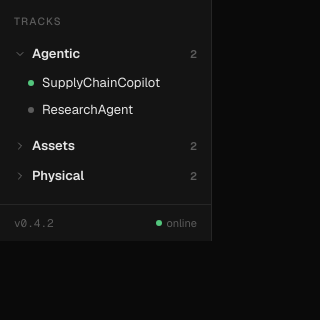
Scenario: Sidebar track-group expand/collapse › expands Assets on click and reveals its projects
Click the button with test id "track-toggle-assets" at (106, 146), box x1=6 y1=132 x2=205 y2=160
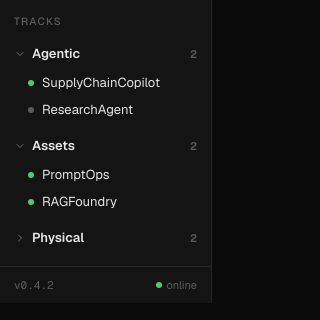
Expected: the link with test id "project-row-prompt-ops" is shown, x1=28 y1=166 x2=110 y2=183
Expected: the link with test id "project-row-rag-foundry" is shown, x1=28 y1=193 x2=117 y2=210
